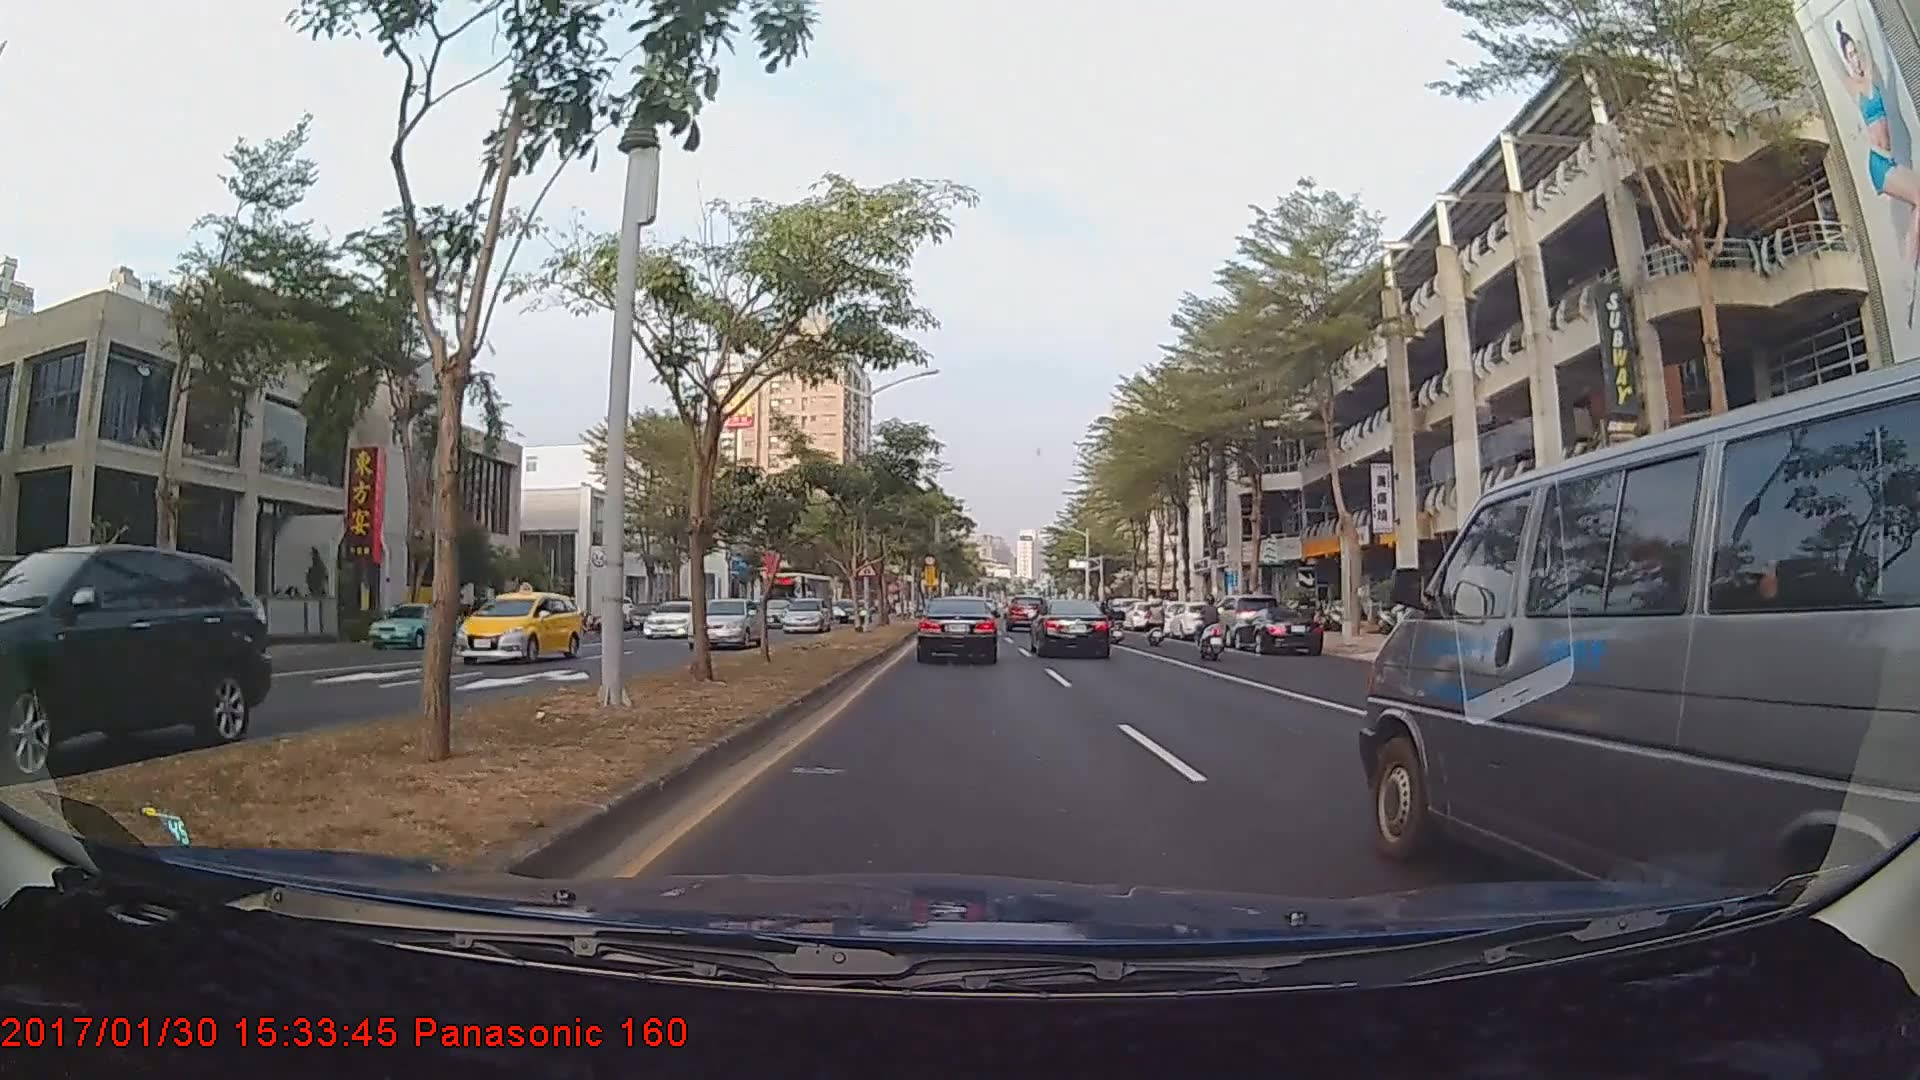rider: (1191, 592, 1237, 662), (1143, 588, 1173, 646)
vehicle: (1353, 404, 1900, 909), (0, 545, 273, 785), (451, 590, 581, 666), (916, 594, 1001, 666), (1030, 597, 1112, 659), (761, 570, 837, 628), (365, 601, 458, 647), (1234, 605, 1323, 653), (1206, 591, 1283, 645), (688, 596, 764, 649), (640, 600, 705, 637), (1167, 601, 1224, 639), (782, 594, 830, 633), (1006, 593, 1046, 630), (835, 597, 868, 621)
